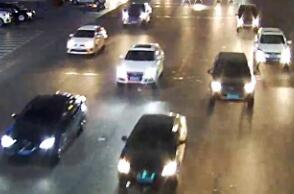car: (2, 92, 87, 165), (116, 112, 188, 191), (207, 51, 255, 106), (116, 42, 164, 84), (252, 27, 293, 72), (65, 24, 107, 56), (233, 2, 262, 31), (121, 1, 153, 25)
